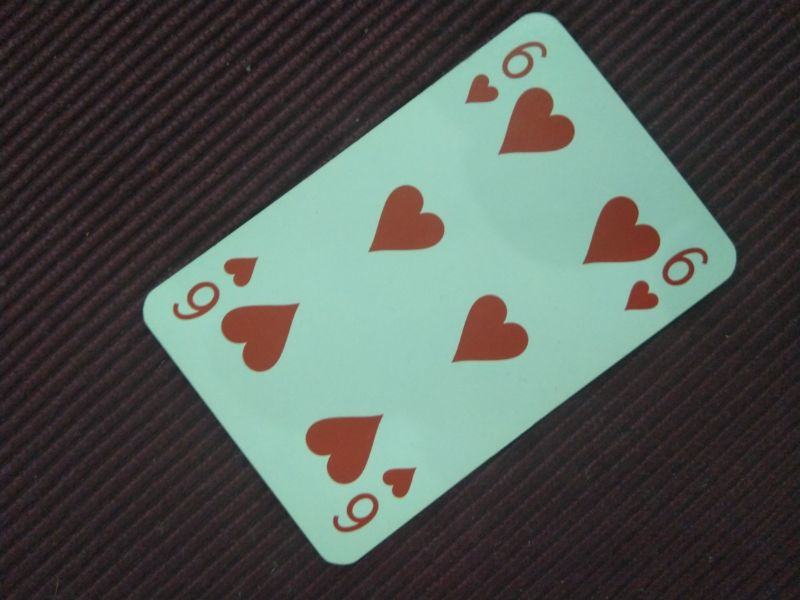6h: (462, 35, 555, 106), (621, 242, 709, 316), (168, 255, 260, 323), (328, 466, 417, 534)
